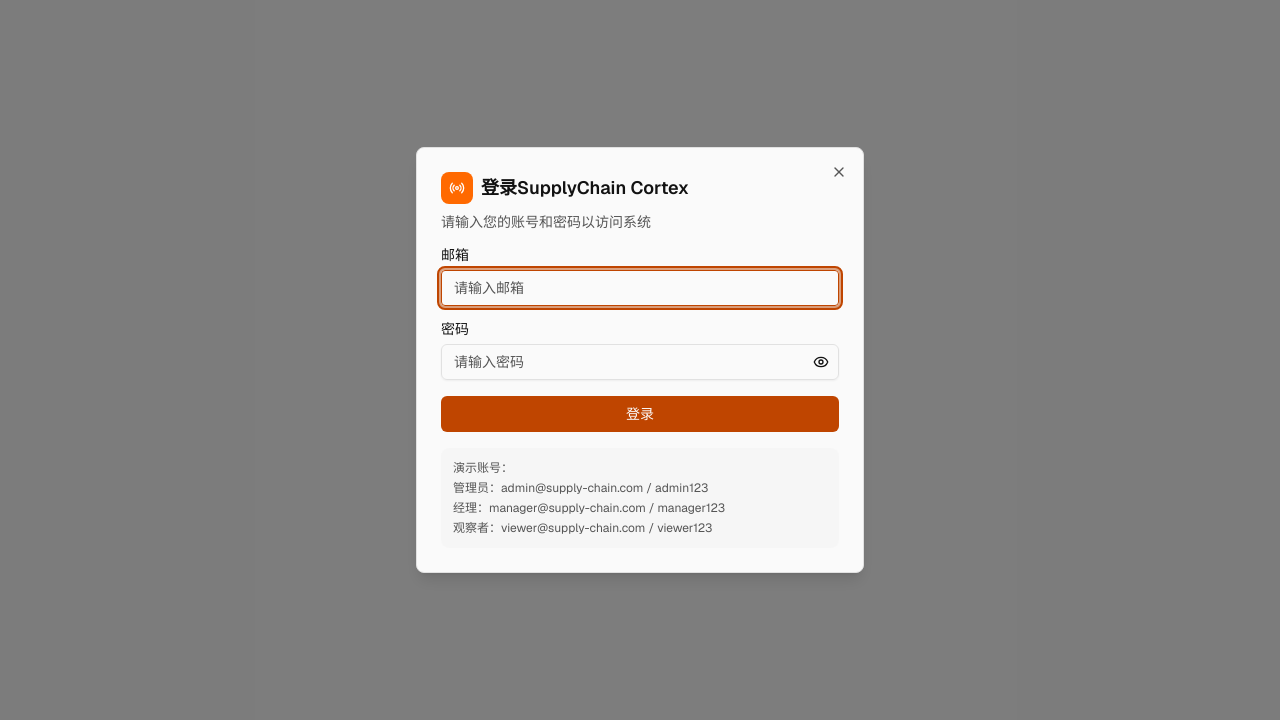
LoginDialog › shows loading state during login
This screenshot has width=1280, height=720.
In the field with placeholder "请输入邮箱": coordinates (640, 288) x1=441 y1=270 x2=839 y2=306, type "admin@supply-chain.com"
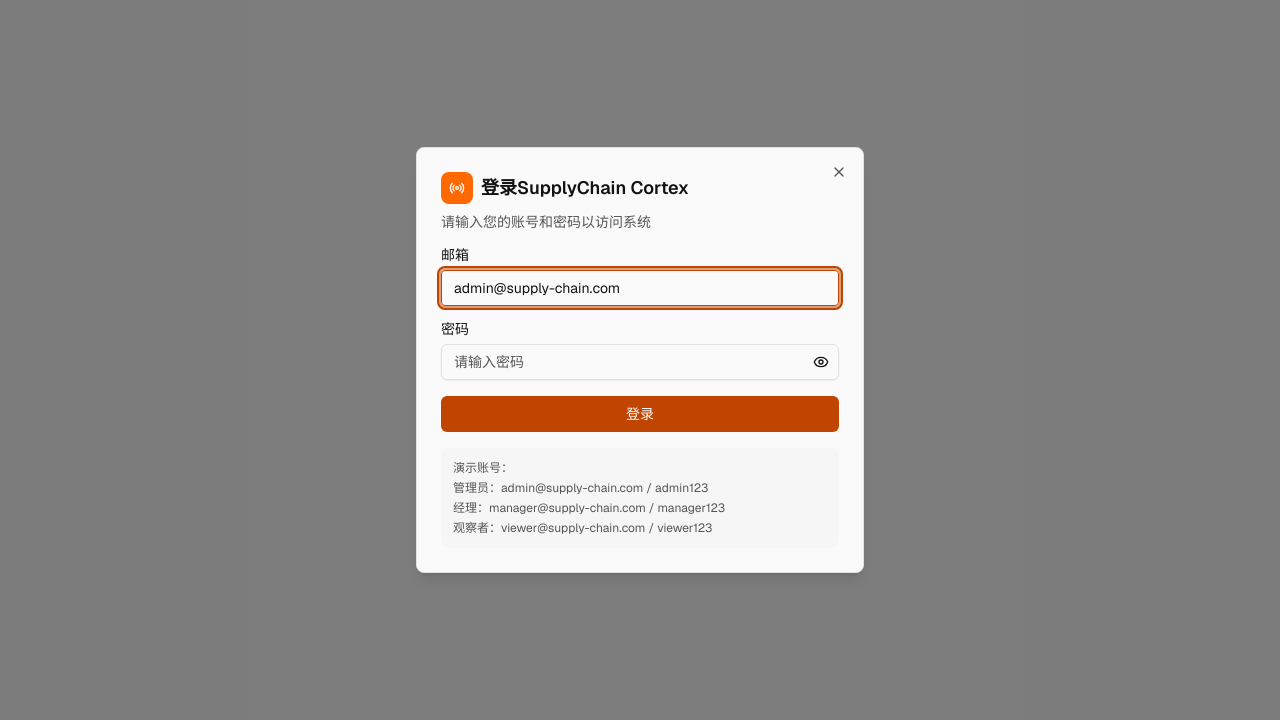
In the password field with placeholder "请输入密码": coordinates (640, 362) x1=441 y1=344 x2=839 y2=380, type "admin123"
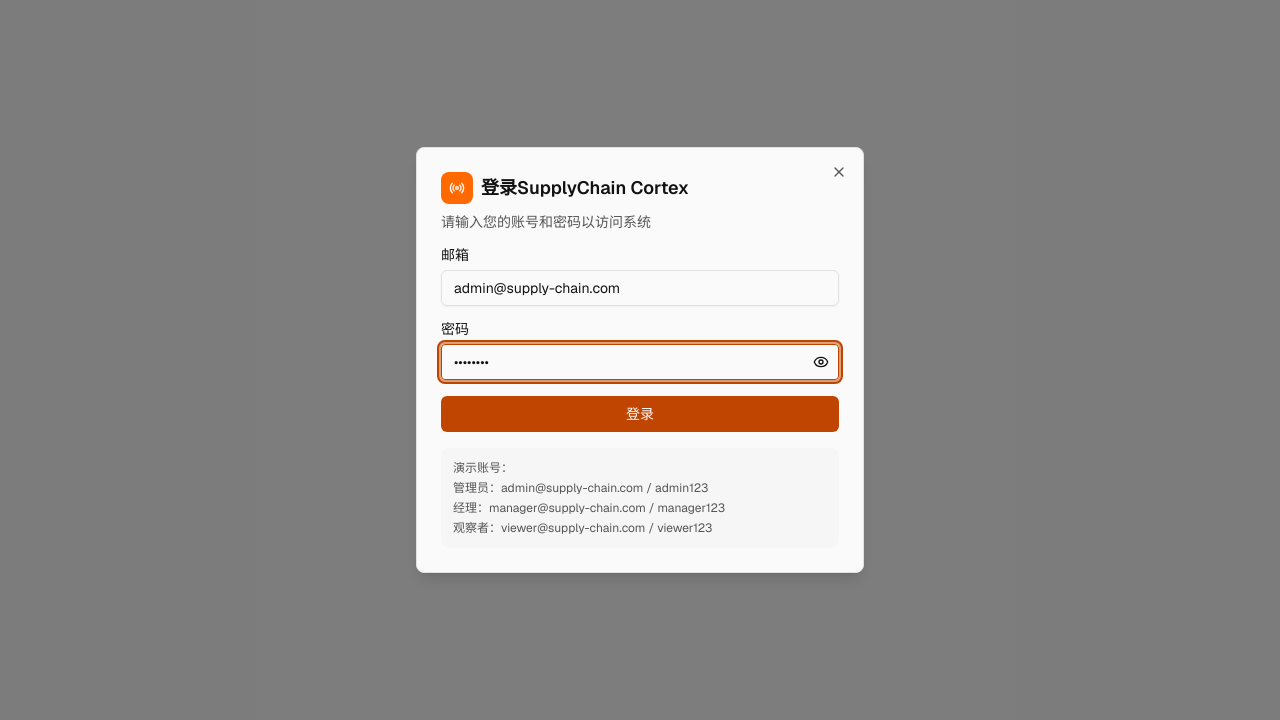
Click the button "登录": coordinates (640, 414) x1=441 y1=396 x2=839 y2=432
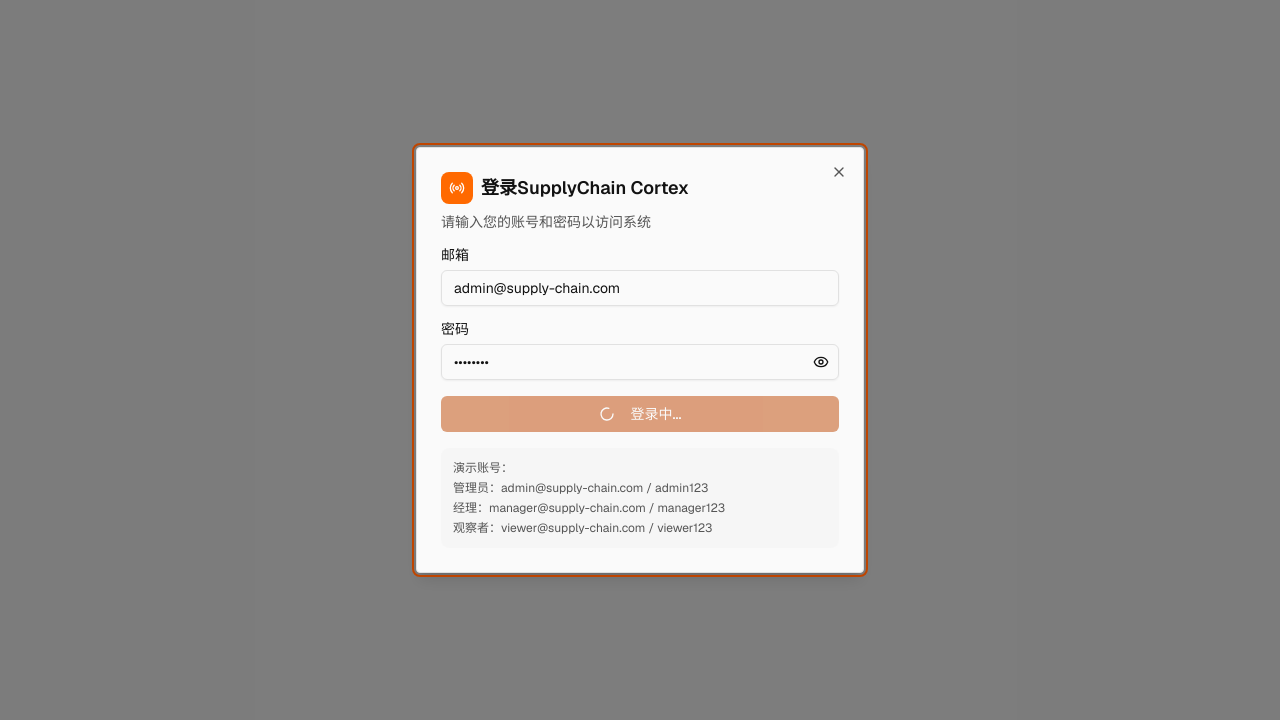
Now the button "登录中..." is shown, box x1=441 y1=396 x2=839 y2=432
